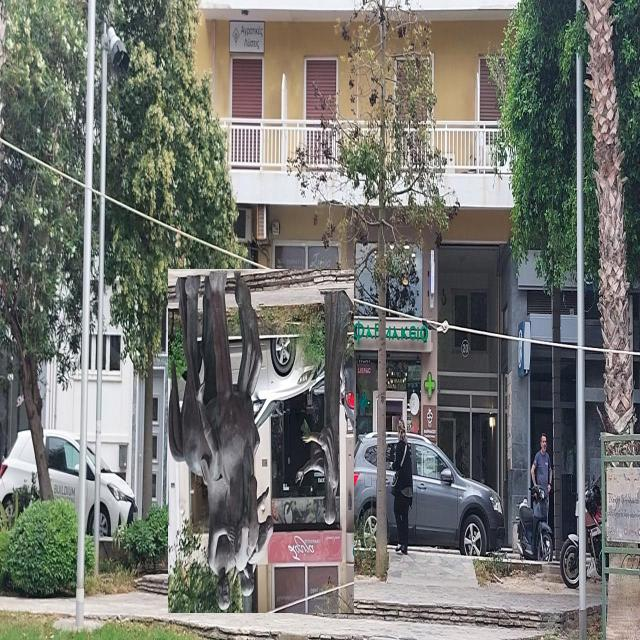Aretousa: (169, 270, 355, 614)
